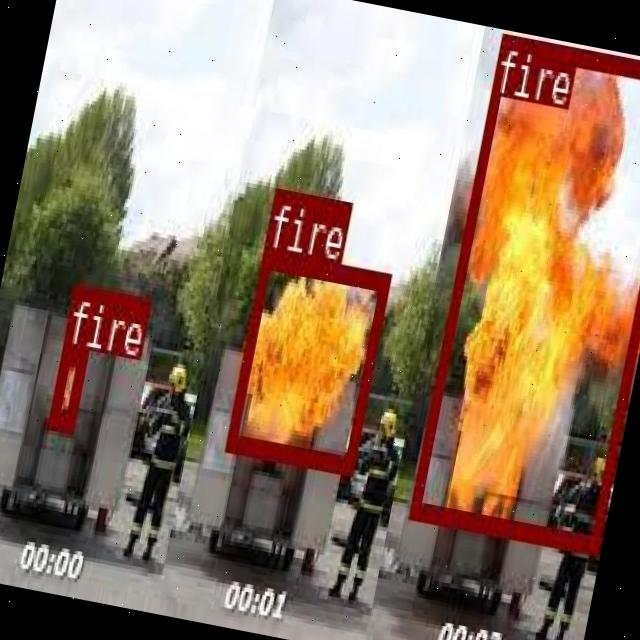fire: (408, 32, 640, 549), (225, 249, 390, 472), (48, 344, 88, 426)
